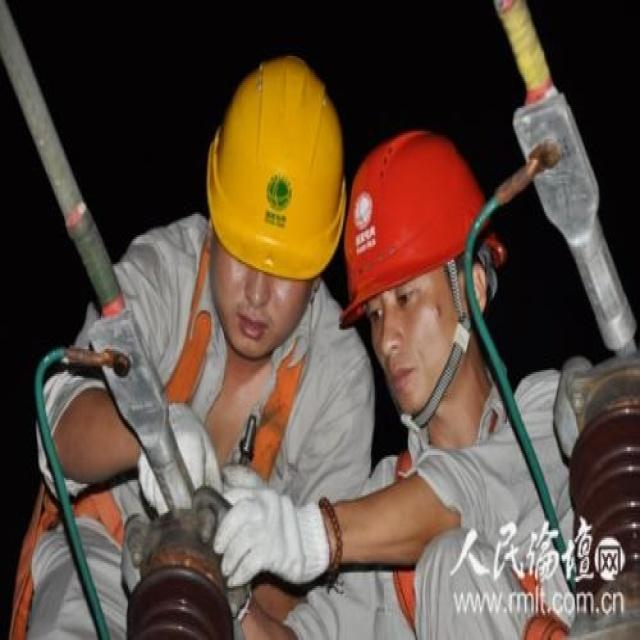helmet: (196, 40, 356, 492), (341, 149, 506, 559)
